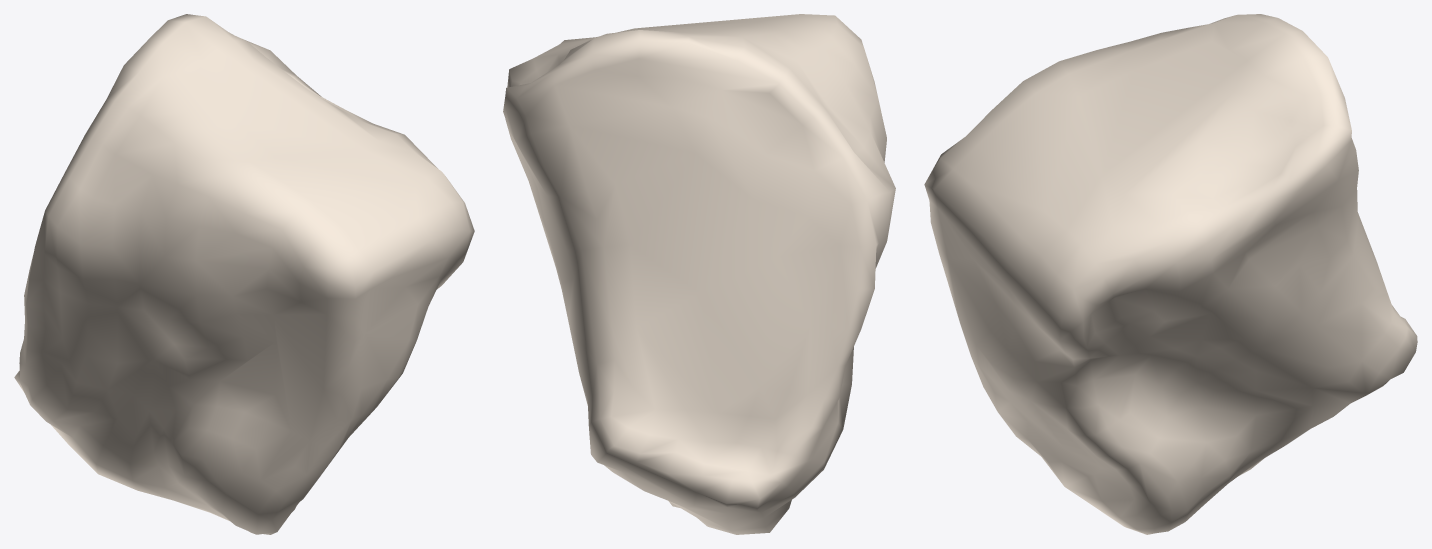
Rendered from left_intermediate_cuneiform.glb.
3 views of the same model, side by side, from view 1: azimuth 30°, elevation 25°; view 2: azimuth 150°, elevation 25°; view 3: azimuth 270°, elevation 25° (orthographic). The views are drawn at different scales.
Parts seen in each view (by area): view 1: Intermediate cuneiform bone.r; view 2: Intermediate cuneiform bone.r; view 3: Intermediate cuneiform bone.r.
Part boxes in pixels (bbox=[...]): Intermediate cuneiform bone.r: bbox=[14, 14, 474, 534]; Intermediate cuneiform bone.r: bbox=[503, 14, 895, 534]; Intermediate cuneiform bone.r: bbox=[924, 14, 1417, 534].
Bounding box in the file's own units: 0.0197 × 0.0237 × 0.0216.
